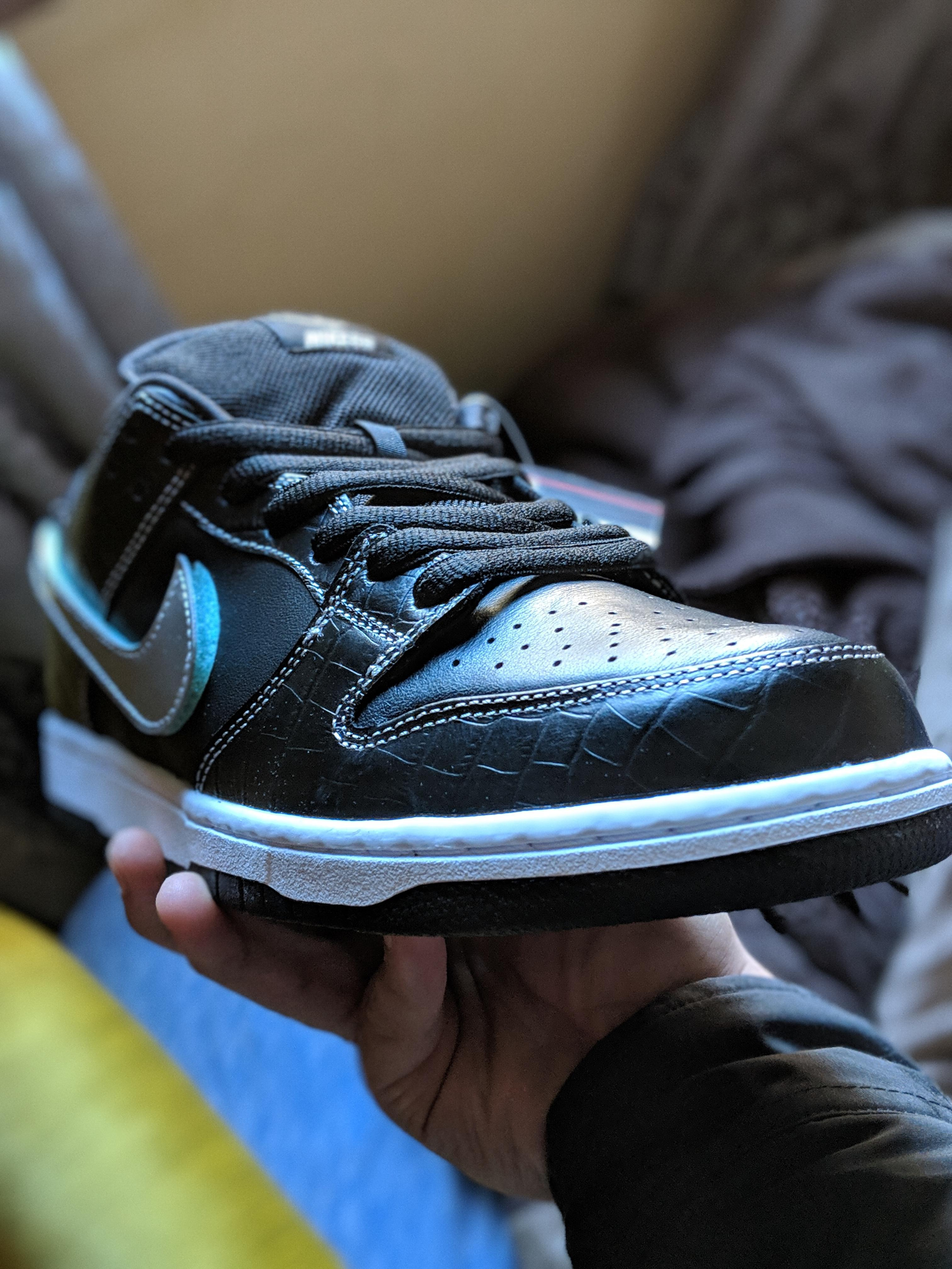sneaker: (13, 290, 952, 947)
